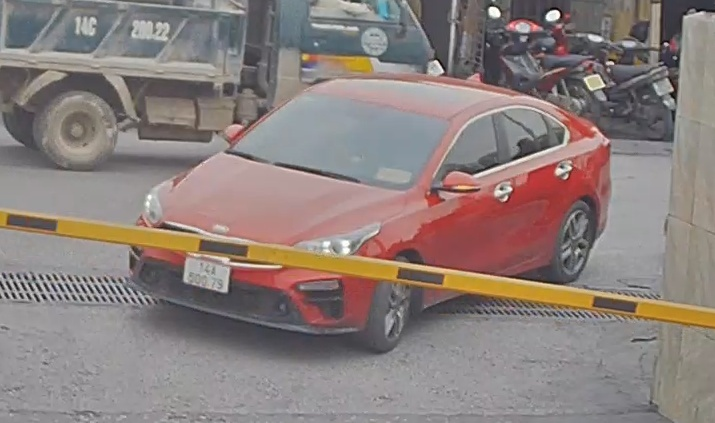vehicle plate: (183, 250, 231, 294)
